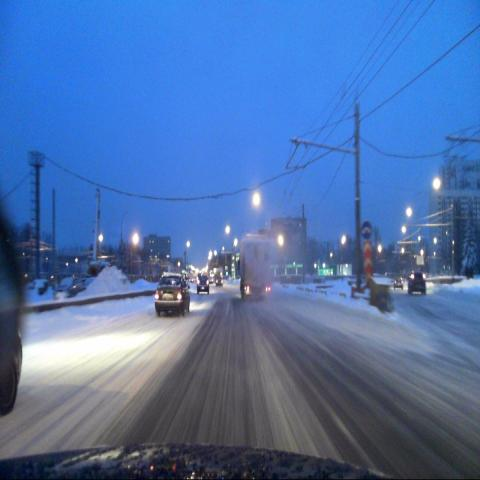4_2_3: (360, 218, 372, 239)
